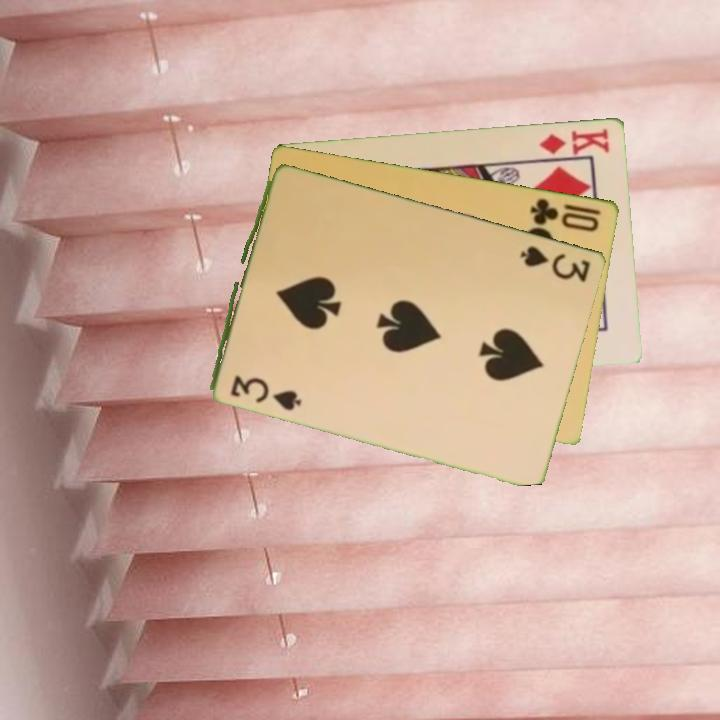10c: (527, 194, 604, 234)
3s: (517, 241, 594, 285), (227, 371, 301, 414)
Kd: (536, 124, 613, 158)
